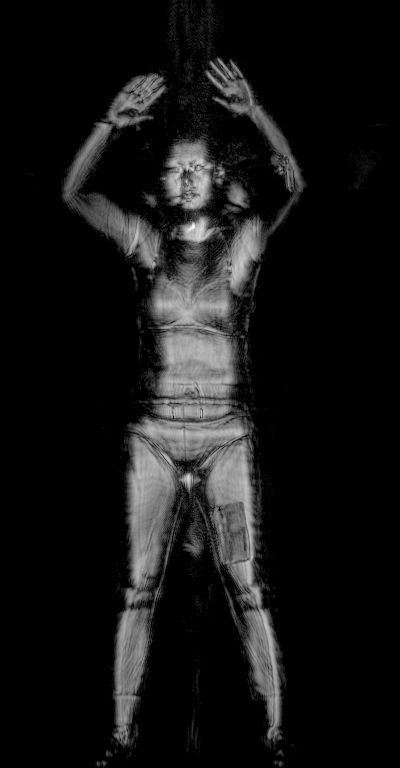head: (156, 132, 229, 221)
others: (212, 497, 255, 569), (268, 150, 298, 194)
person: (58, 53, 305, 768)
